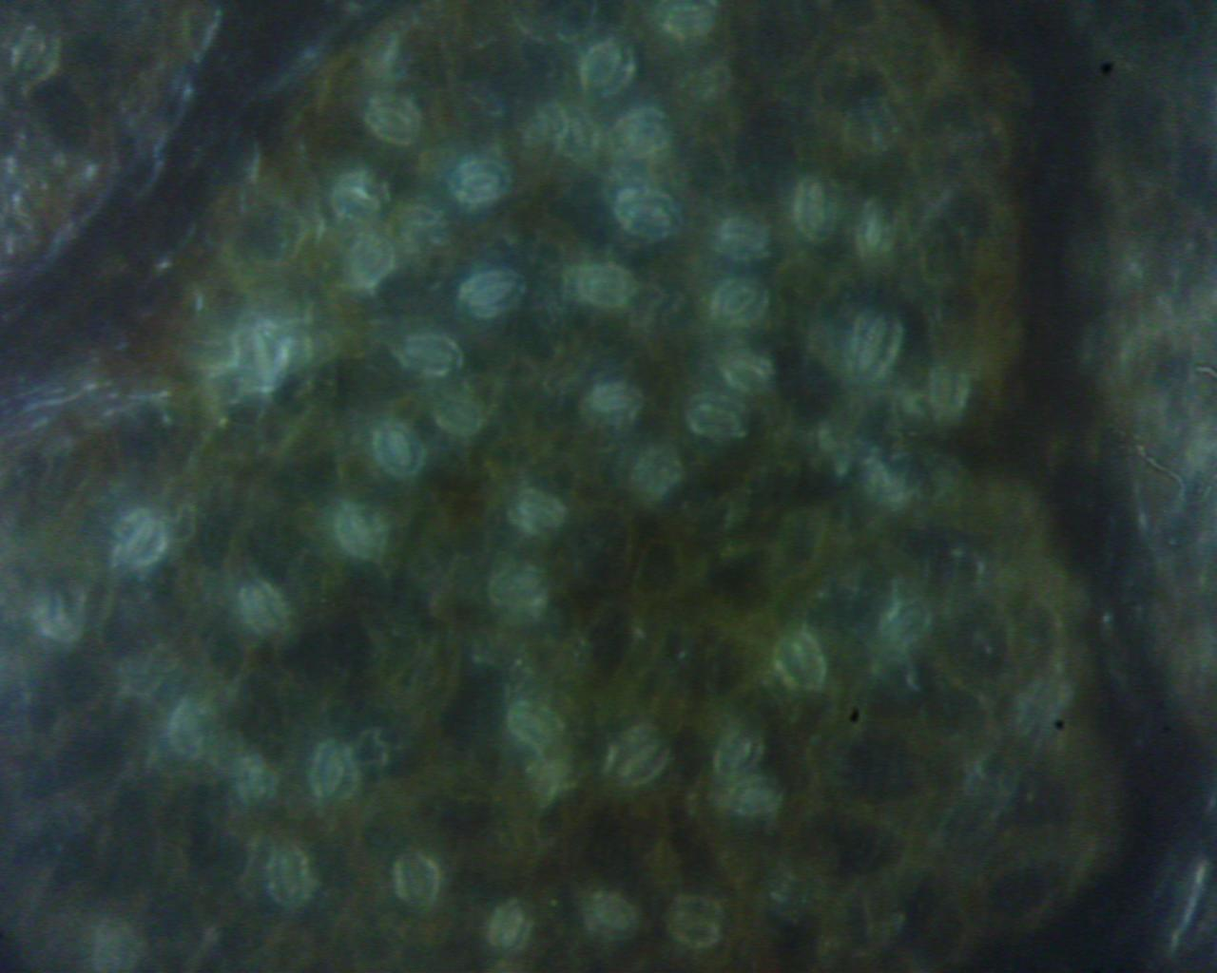stomata: (854, 310, 894, 382), (635, 452, 684, 506), (618, 196, 681, 238), (452, 162, 512, 205), (776, 634, 821, 688), (581, 264, 635, 308), (241, 333, 282, 390), (608, 736, 666, 776), (796, 181, 836, 239), (269, 849, 311, 904), (460, 277, 522, 314), (119, 515, 165, 564), (587, 45, 631, 96), (694, 400, 750, 440), (317, 742, 354, 800), (858, 204, 896, 260), (377, 427, 424, 472), (403, 337, 460, 374), (20, 29, 57, 86), (493, 570, 547, 609), (340, 174, 385, 219), (171, 704, 211, 754), (246, 579, 281, 636), (518, 496, 567, 536), (369, 104, 419, 143), (398, 853, 436, 904), (618, 117, 667, 155), (343, 508, 381, 555), (514, 704, 559, 743), (592, 899, 637, 938), (493, 906, 531, 952), (678, 903, 720, 944), (347, 246, 388, 287), (812, 428, 851, 471), (586, 391, 642, 420), (731, 783, 782, 814), (721, 289, 763, 325), (563, 112, 595, 159), (723, 733, 757, 776), (882, 607, 923, 642), (242, 758, 274, 802), (726, 358, 771, 388), (725, 228, 768, 256), (935, 371, 965, 411), (521, 121, 550, 155), (445, 405, 479, 431)
